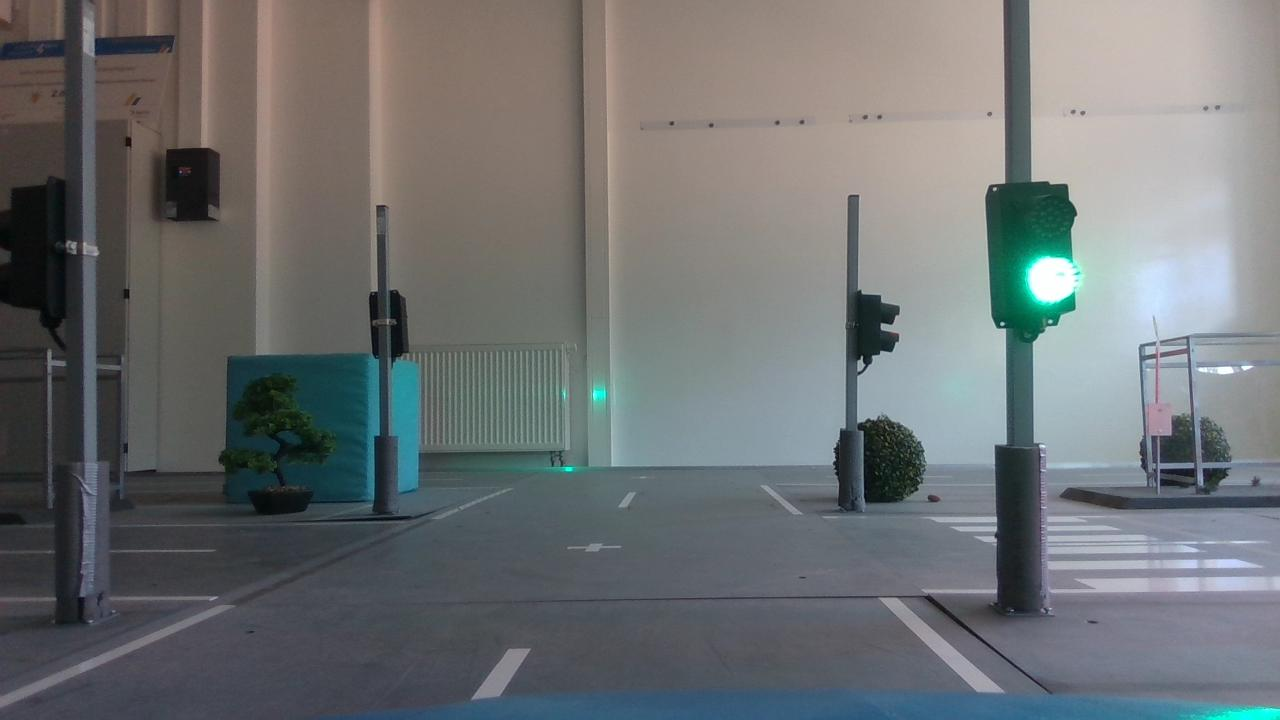traffic_light_green: (981, 176, 1090, 335)
